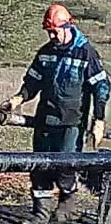gloves: (89, 117, 108, 152), (0, 91, 25, 113)
helmet: (41, 3, 74, 29)
vest: (30, 39, 101, 125)
